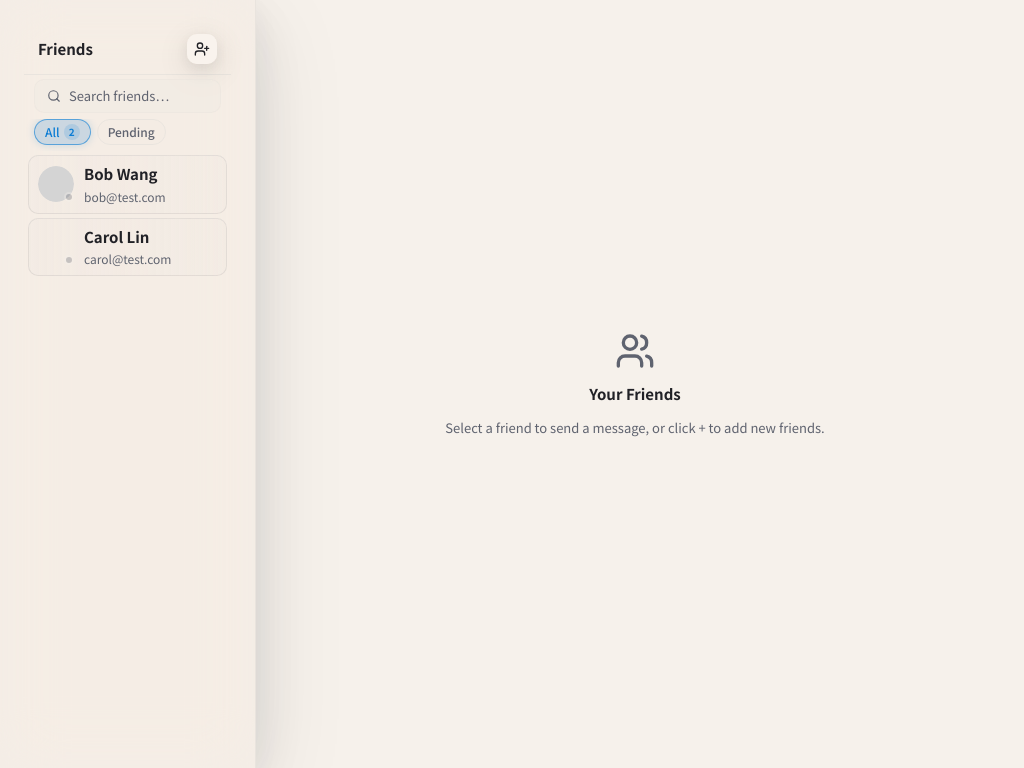
it: TC-F-NEW-03: Sidebar search filters friends list › shows only matching friends when query is active
Expected: the text "Bob Wang" is shown, [84, 163, 158, 184]
Expected: the text "Carol Lin" is shown, [84, 226, 149, 246]
Note: Sidebar search filters existing friends — not a global user search
In the search field with placeholder "Search friends…": (138, 96) [69, 86, 208, 106], type "Bo"
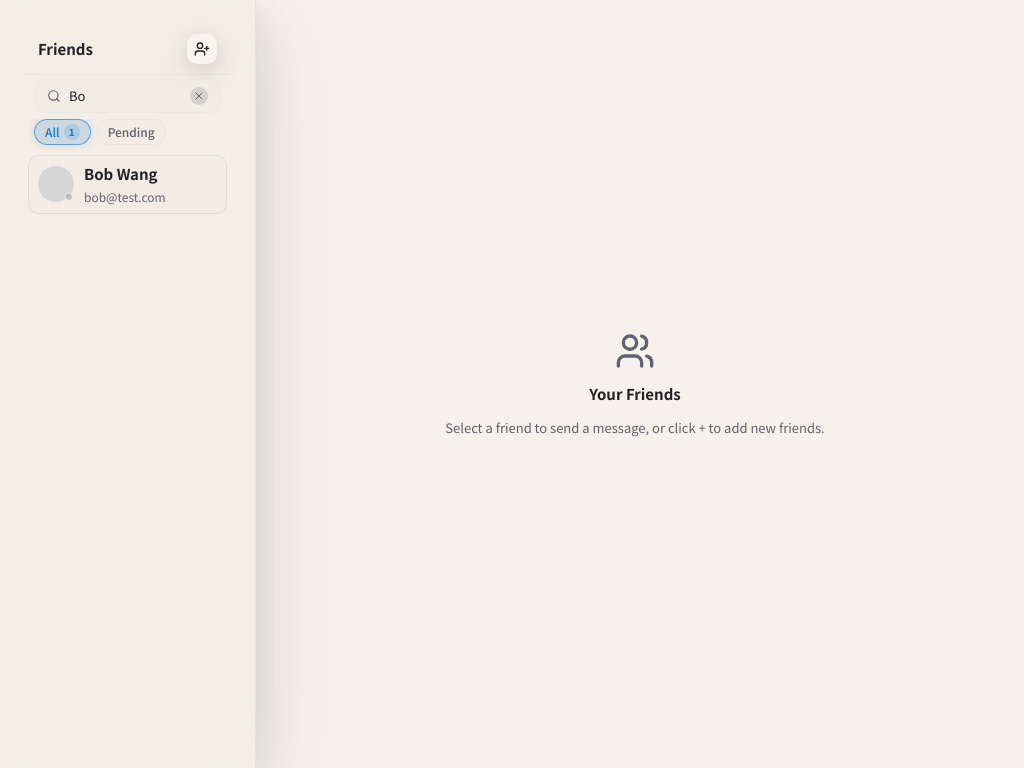
Expected: the text "Bob Wang" is shown, [84, 163, 158, 184]
Expected: the button "Carol Lin" is gone
